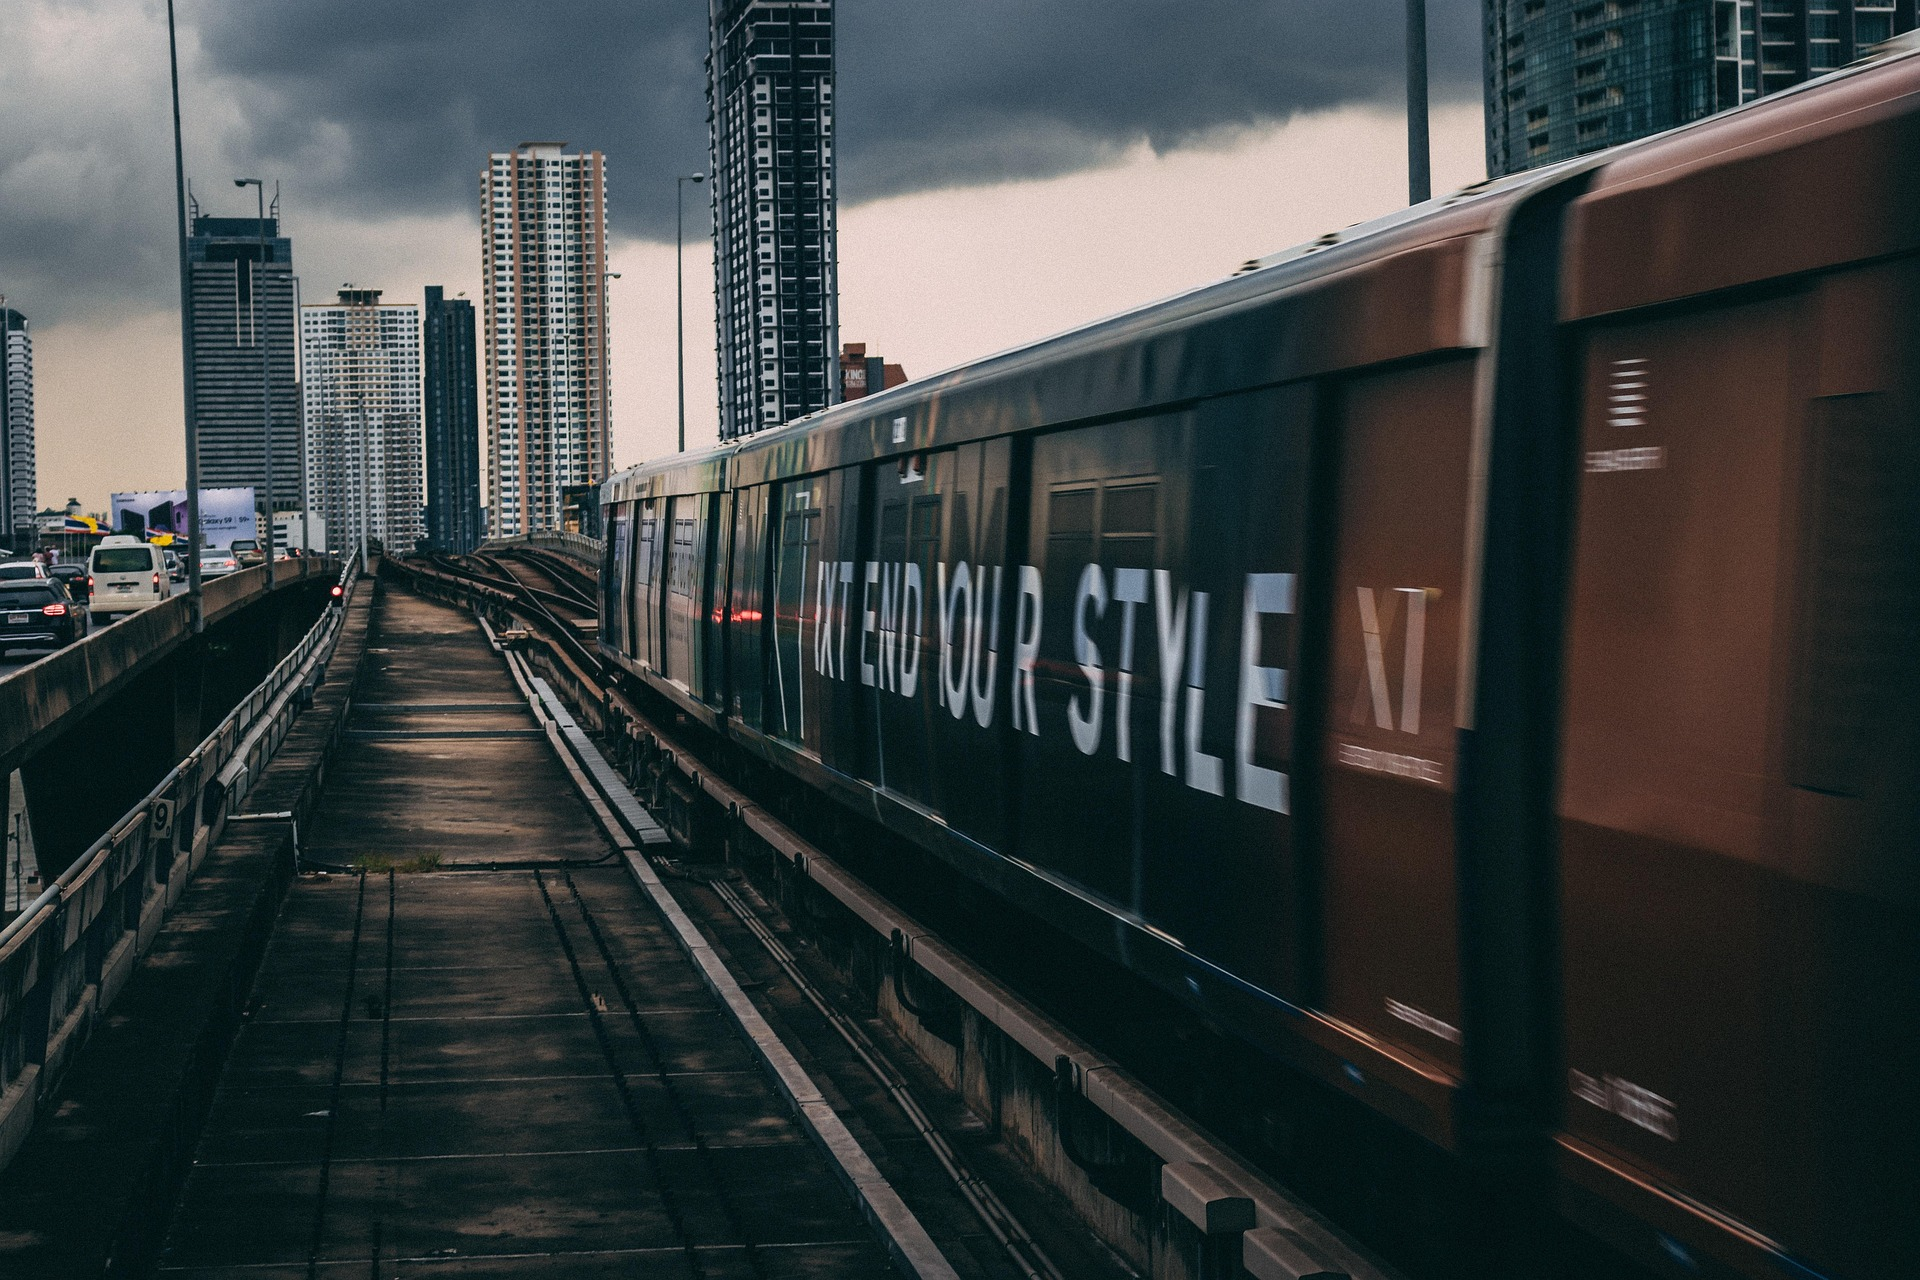train1: (586, 34, 1910, 1270)
